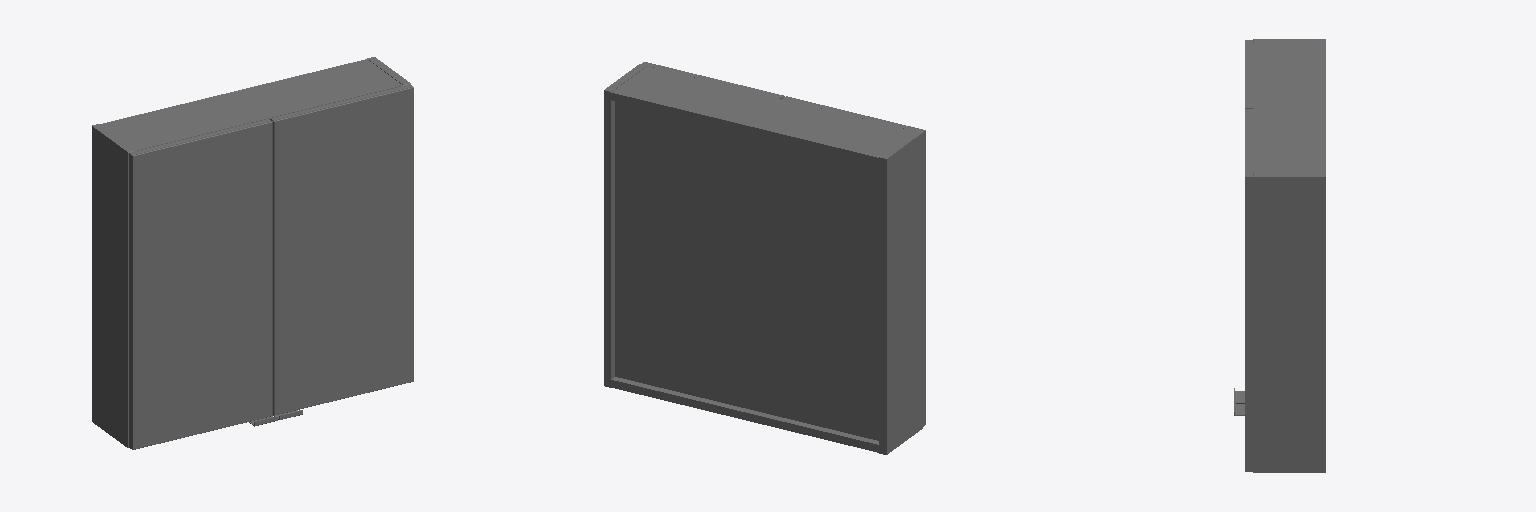
3 renders of one model, left to right at view 1: azimuth 30°, elevation 25°; view 2: azimuth 150°, elevation 25°; view 3: azimuth 270°, elevation 25°, orthographic.
Parts seen in each view (by area): view 1: Object62907, Object62909, Layer_3D_??????003, Object62906, Object62908; view 2: Layer_3D_??????003, Object62906; view 3: Layer_3D_??????003, Object62908.
Boxes of the visible parts, <box> form: Object62907: <box>132,121,272,449</box>; Object62909: <box>274,87,413,415</box>; Layer_3D_??????003: <box>92,57,410,447</box>; Object62906: <box>129,119,271,448</box>; Object62908: <box>270,84,412,414</box>; Layer_3D_??????003: <box>604,64,922,454</box>; Object62906: <box>783,97,925,426</box>; Layer_3D_??????003: <box>1253,39,1325,472</box>; Object62908: <box>1246,109,1252,471</box>.
Bounding box in the file's own units: 600 × 600 × 168.